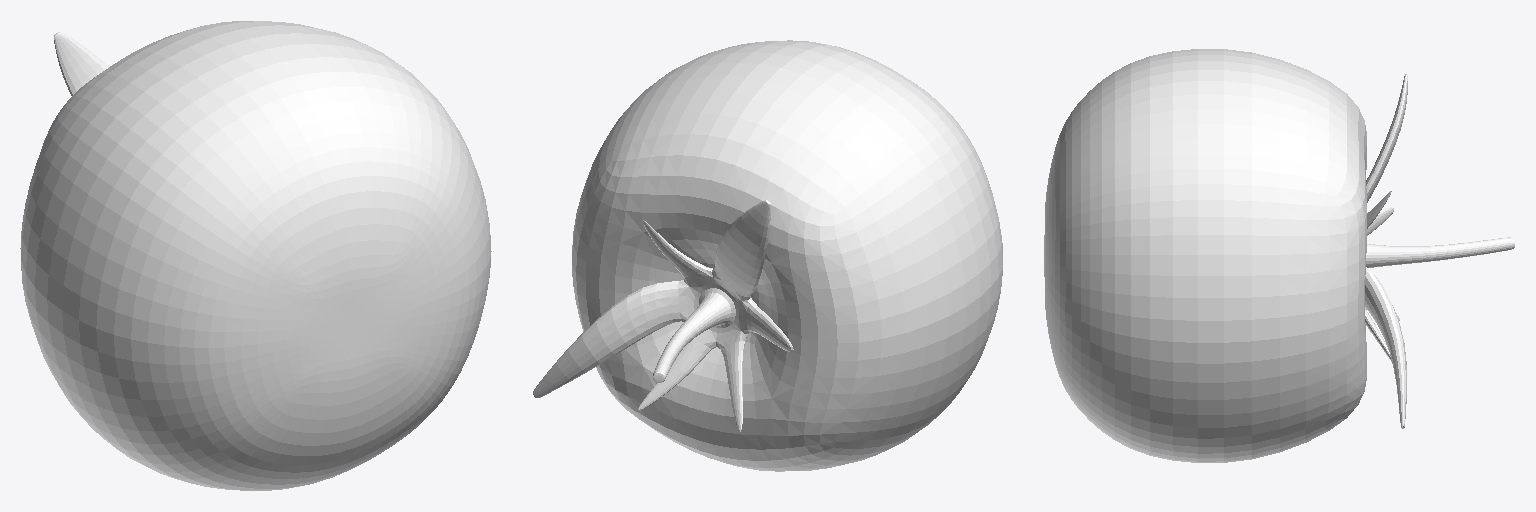
URDF robot description (textured):
<?xml version="1.0" ?>
<robot name="textured">
  <material name="color">
    <color rgba="1 1 1 1"/>
  </material>

  <link name="base_link">
    <contact>
      <lateral_friction value="1.0"/>
      <rolling_friction value="1.0"/>
      <spinning_friction value="0.001"/>
      <inertia_scaling value="1.0"/>
    </contact>
    <inertial>
      <origin rpy="0 0 0" xyz="0 0 0"/>
       <mass value="0.1"/>
       <inertia ixx="1" ixy="0" ixz="0" iyy="1" iyz="0" izz="1"/>
    </inertial>

    <visual>
      <origin rpy="0 0 0" xyz="0 0 0"/>
      <geometry>
        <mesh filename="Tomato.obj" scale="0.02 0.02 0.02"/>
      </geometry>
      <material name="color"/>
    </visual>

    <collision>
      <origin rpy="0 0 0" xyz="0 0 0"/>
      <geometry>
        <mesh filename="Tomato.obj" scale="0.02 0.02 0.02"/>
      </geometry>
    </collision>

  </link>
</robot>

--- Facts derived from the render (not from the file) ---
The picture shows the robot from 3 angles, left to right: view 1: azimuth 30°, elevation 25°; view 2: azimuth 150°, elevation 25°; view 3: azimuth 270°, elevation 25°; orthographic projection.
Robot: textured — 1 links, 0 joints (none); root link base_link; default pose: all joints at 0.
Visible links, largest first — view 1: base_link; view 2: base_link; view 3: base_link.
Boxes of the visible links, bbox=[...] form: base_link: bbox=[20, 21, 491, 490]; base_link: bbox=[533, 40, 1002, 471]; base_link: bbox=[1044, 49, 1514, 462].
Bounding box of the posed robot: 0.0687 × 0.0787 × 0.0687 m (x, y, z).
1 mesh visuals loaded from 1 distinct referenced files (1 OBJ).